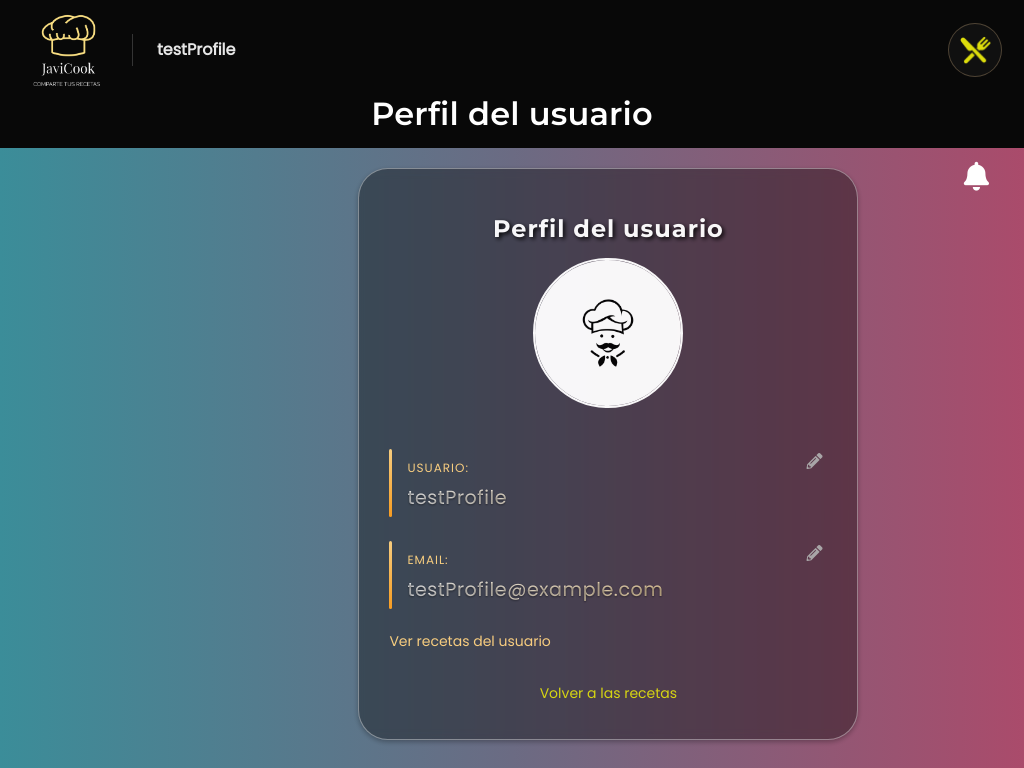
Test: Verificacion de perfil de usuario › Deberia mostrar recetas del usuario
This screenshot has width=1024, height=768.
Expected: the text "Perfil del usuario" is shown, [371,94,653,133]
Verificar que las recetas del usuario se muestran
Step 1. Click the link "Ver recetas del usuario" → (470, 641), box [389,631,550,651]
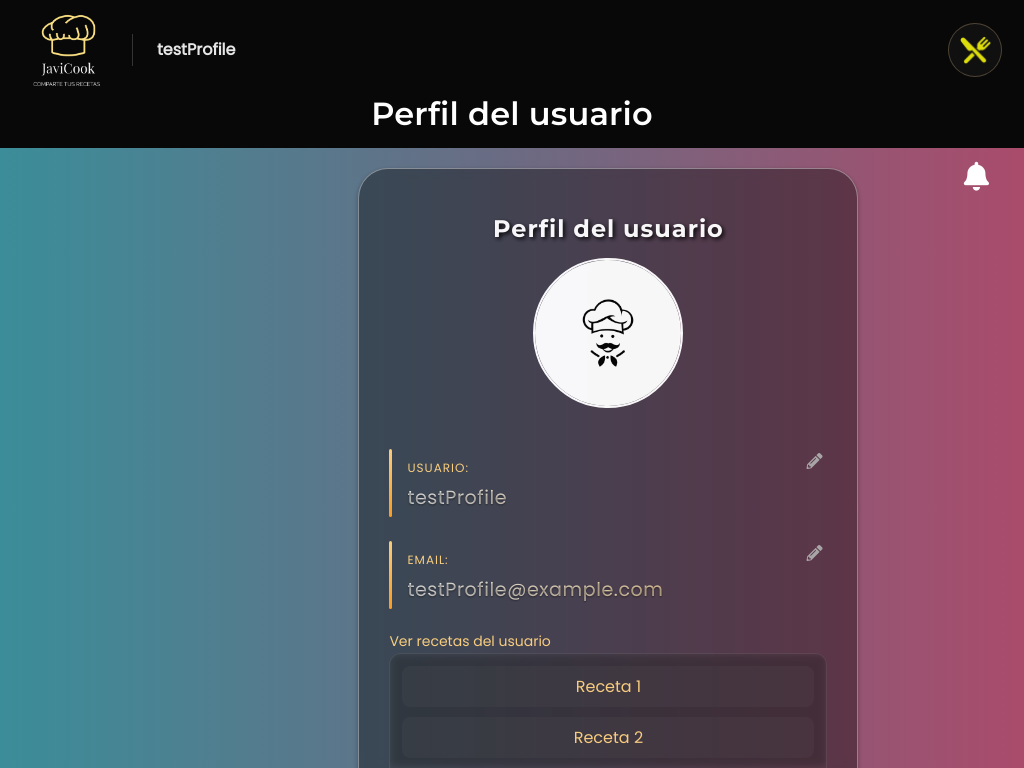
Expected: the link "Receta 1" is shown, [402,666,814,707]
Expected: the link "Receta 2" is shown, [402,717,814,758]
